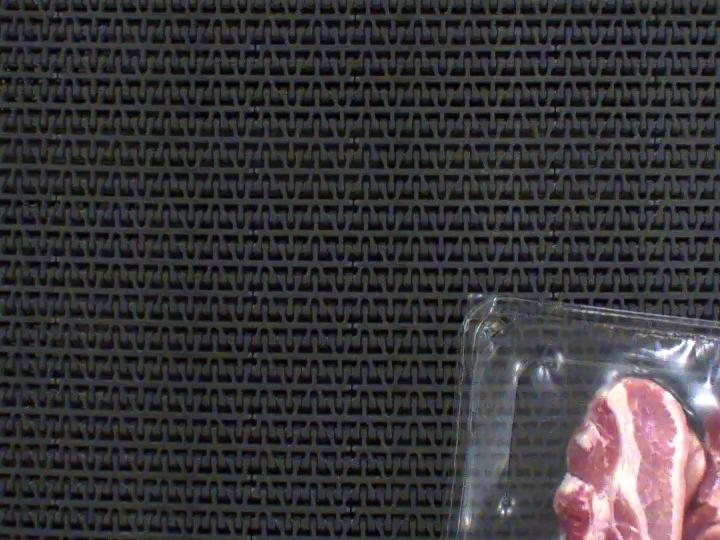unsealed: (465, 317, 720, 540)
